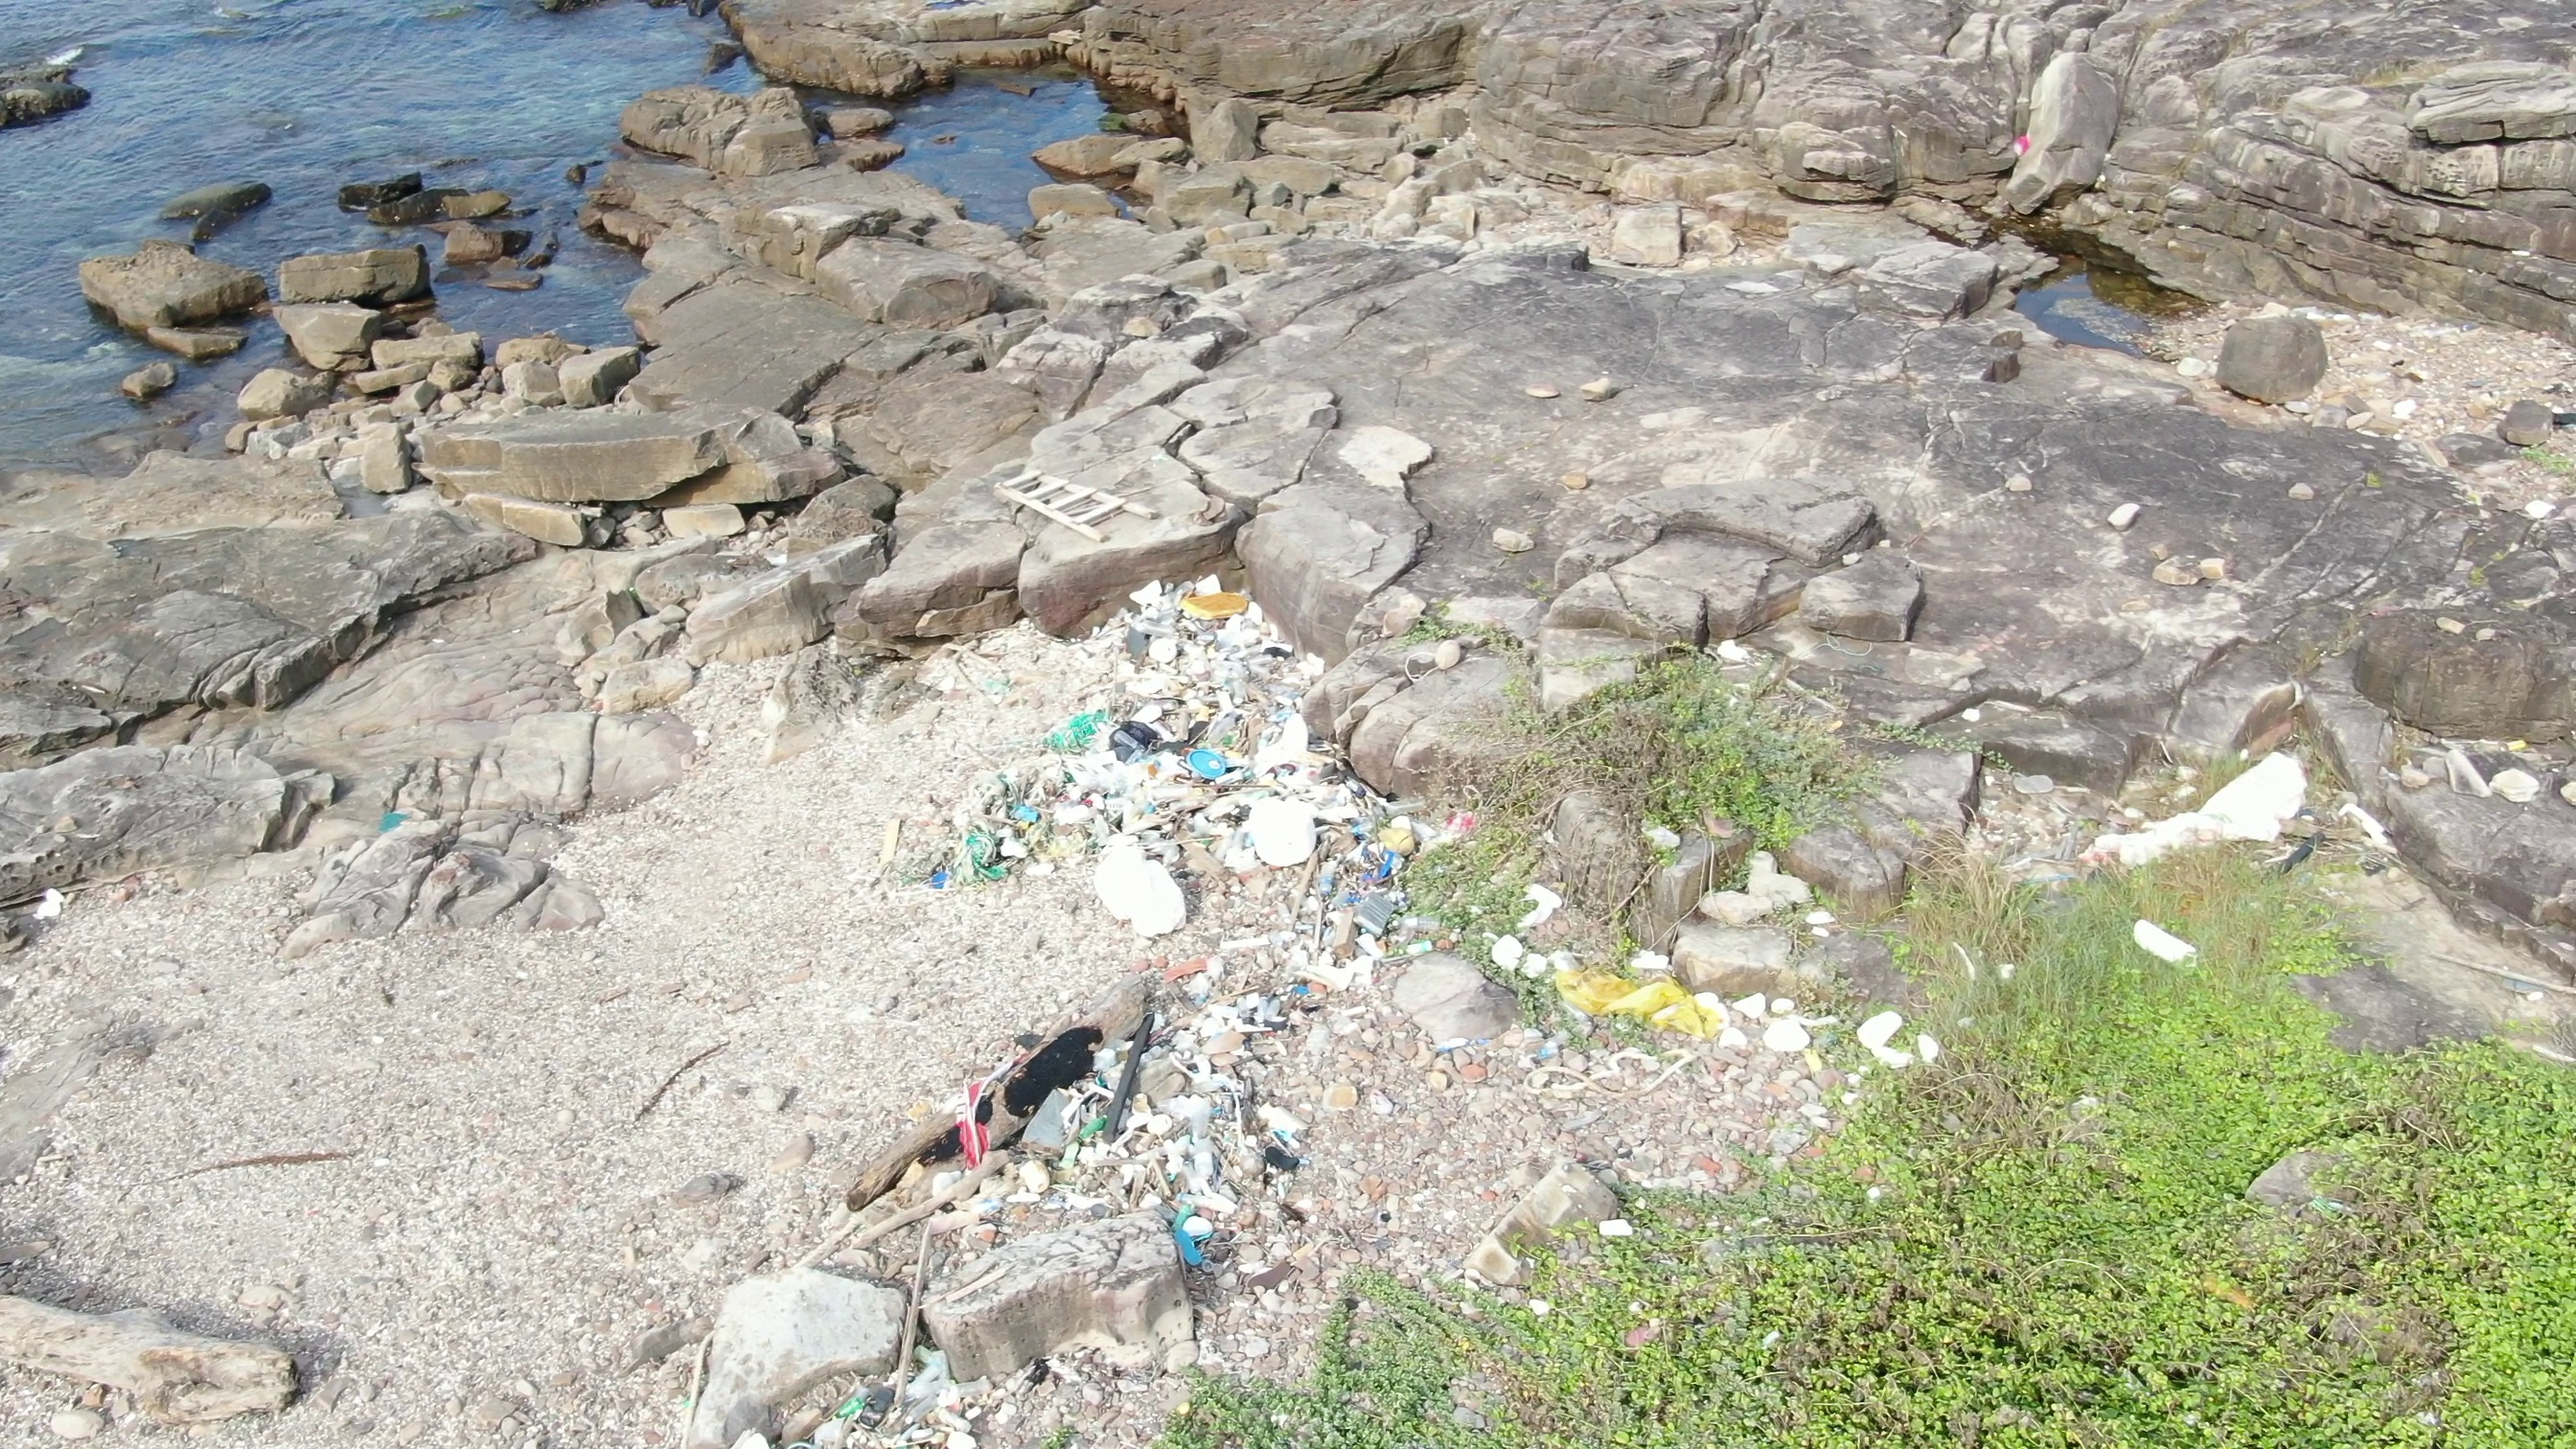garbage: (1010, 750, 1481, 1293), (872, 579, 1345, 904), (1509, 872, 1964, 1125), (775, 1037, 1040, 1449), (985, 455, 1157, 550), (2123, 909, 2213, 982), (363, 807, 412, 846), (2006, 126, 2043, 168)
